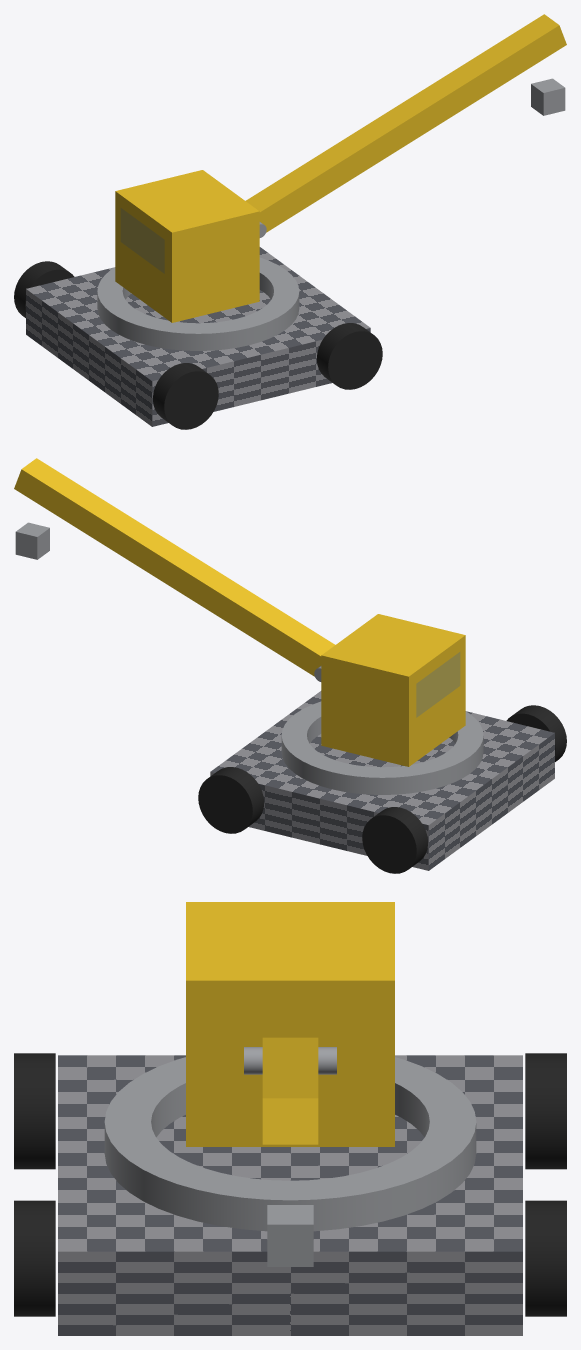
File: test_mesh_crane_b.glb
The picture shows the model from 3 angles, top to bottom: view 1: azimuth 30°, elevation 25°; view 2: azimuth 150°, elevation 25°; view 3: azimuth 270°, elevation 25°; orthographic projection. The views are drawn at different scales.
Visible parts, largest first — view 1: BASE, CAB, MAIN BOOM, SLEWING RING, WHEEL RL, WHEEL RR, WHEEL FR, HOOK BLOCK; view 2: BASE, CAB, MAIN BOOM, SLEWING RING, WHEEL FL, WHEEL FR, WHEEL RR, HOOK BLOCK; view 3: BASE, CAB, SLEWING RING, MAIN BOOM, WHEEL FL, WHEEL FR, WHEEL RL, WHEEL RR, HOOK BLOCK, BOOM PIN.
Part boxes in pixels (x1,y1,x2,y2): BASE: (26,247,370,426); CAB: (115,170,259,322); MAIN BOOM: (246,14,566,232); SLEWING RING: (97,257,299,350); WHEEL RL: (316,323,382,389); WHEEL RR: (153,363,218,429); WHEEL FR: (14,261,74,317); HOOK BLOCK: (531,78,565,115); BASE: (210,691,554,870); CAB: (321,614,465,766); MAIN BOOM: (14,458,334,676); SLEWING RING: (281,701,483,794); WHEEL FL: (198,767,264,833); WHEEL FR: (362,807,427,873); WHEEL RR: (506,705,566,761); HOOK BLOCK: (15,522,49,559); BASE: (58,1055,522,1335); CAB: (186,902,394,1146); SLEWING RING: (104,1057,476,1231); MAIN BOOM: (262,1037,318,1144); WHEEL FL: (525,1200,566,1316); WHEEL FR: (525,1053,566,1169); WHEEL RL: (14,1200,55,1316); WHEEL RR: (14,1053,55,1169); HOOK BLOCK: (267,1205,313,1266); BOOM PIN: (244,1047,336,1074).
Size of the model in its own units: 4.3 by 2.17 by 2.38.
Materials: 5 (1 with a texture image).
